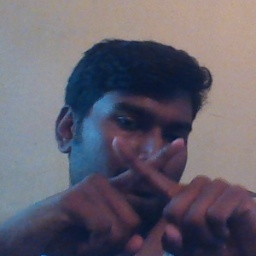X: (89, 128, 199, 244)
